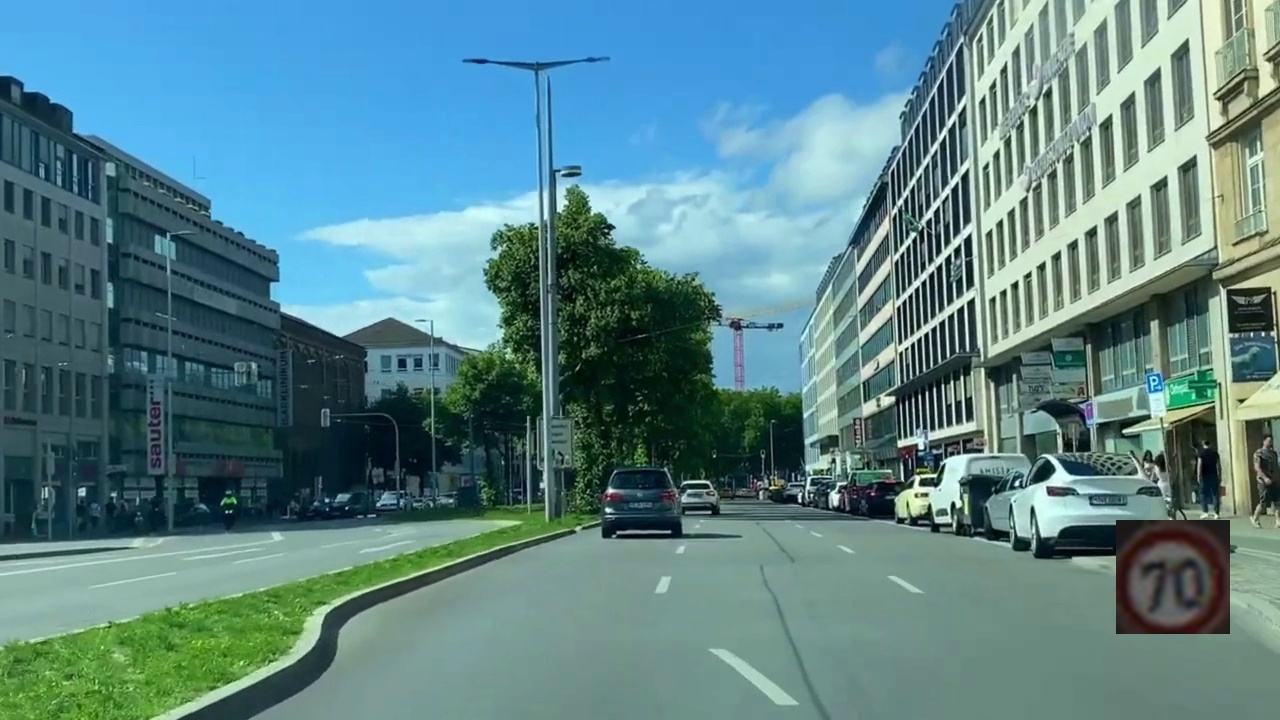Speed 70: (1116, 520, 1230, 634)
